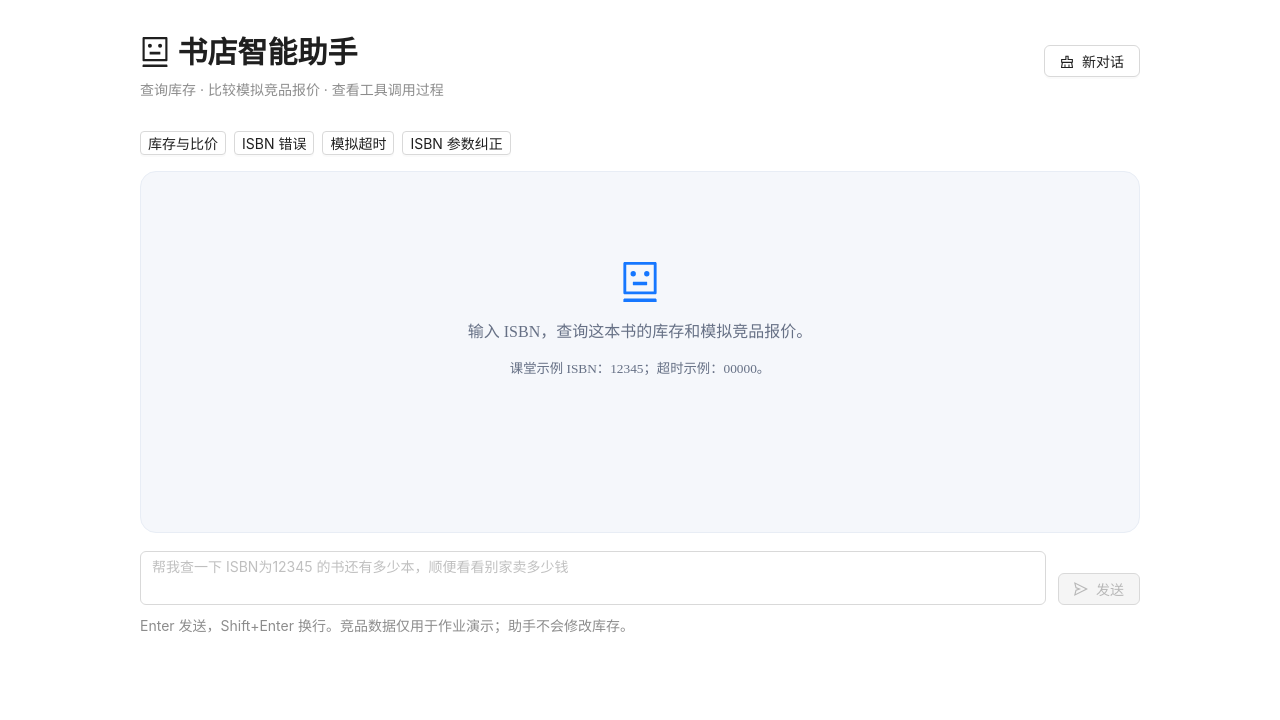
it: 聊天成功后迟到的健康检查失败不能覆盖连接状态
In the text box named "用户问题": (593, 578) top-left (140, 551), bottom-right (1046, 605), type "ISBN为12345库存"
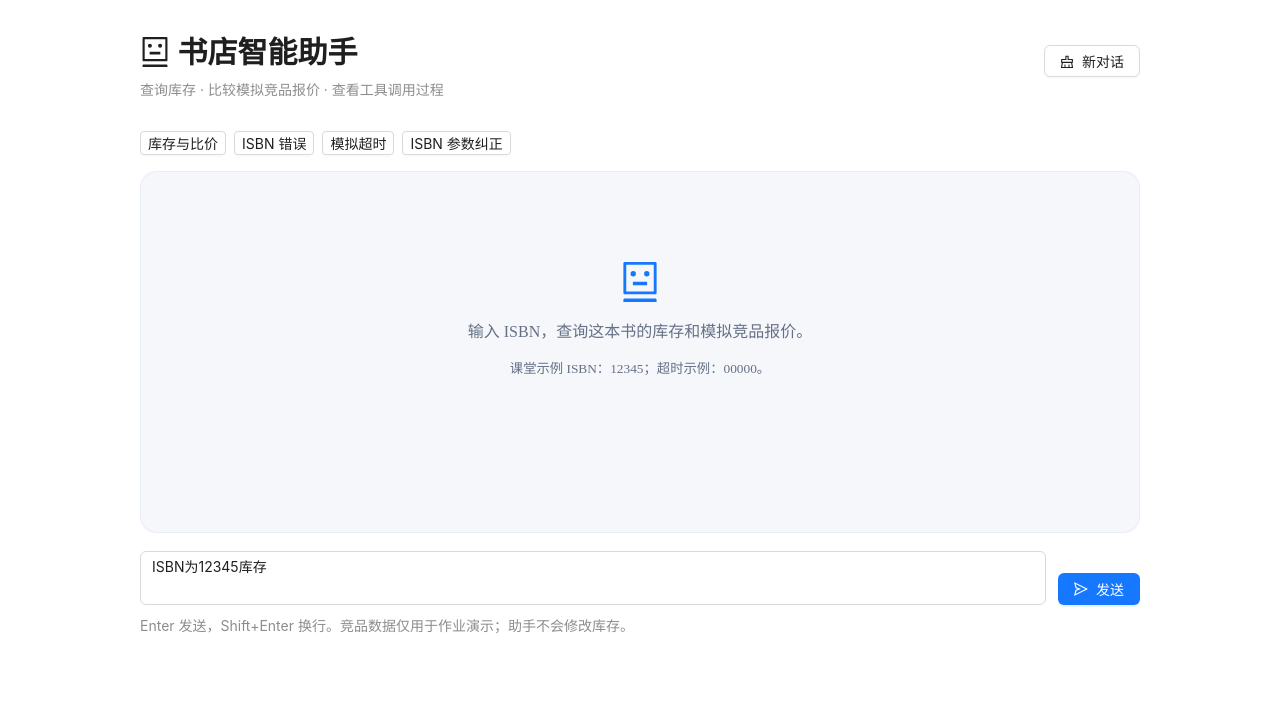
Click the button "发送": (1099, 589) top-left (1058, 573), bottom-right (1140, 605)
(page scrolled)
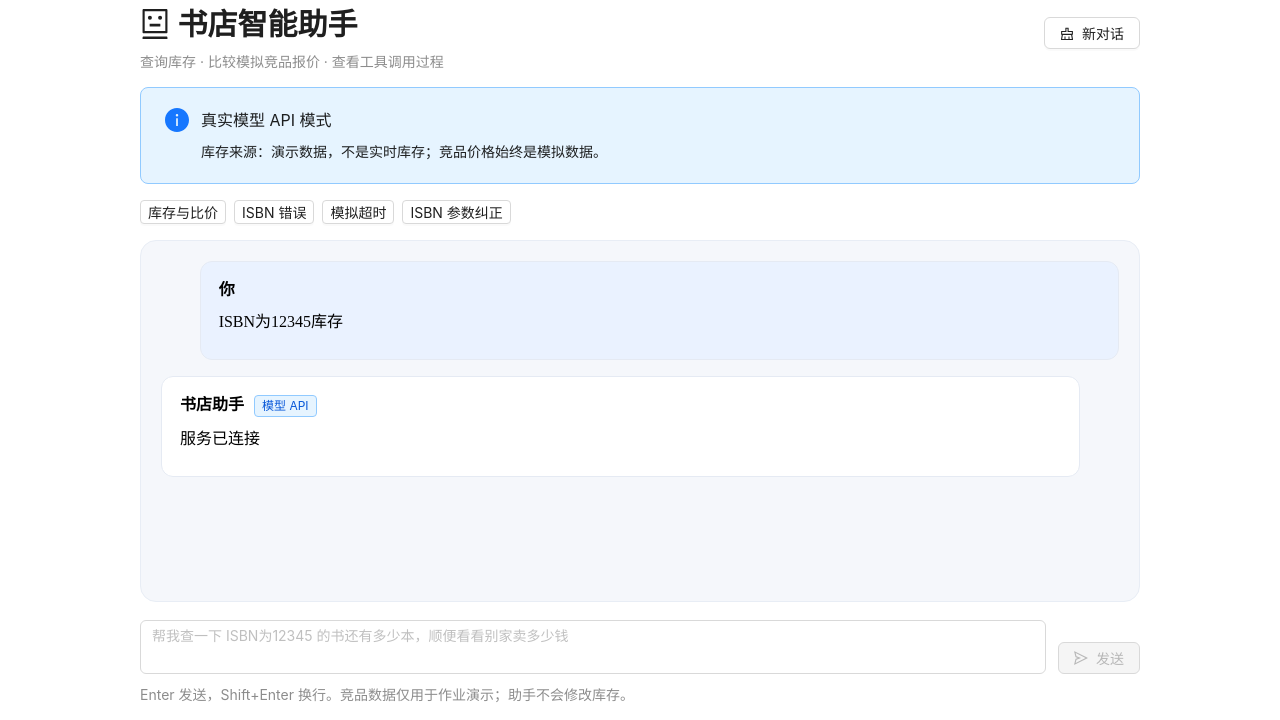
Expected: the text "服务已连接" is shown, top-left (180, 430), bottom-right (260, 447)
Expected: the text "真实模型 API 模式" is shown, top-left (201, 110), bottom-right (332, 130)
